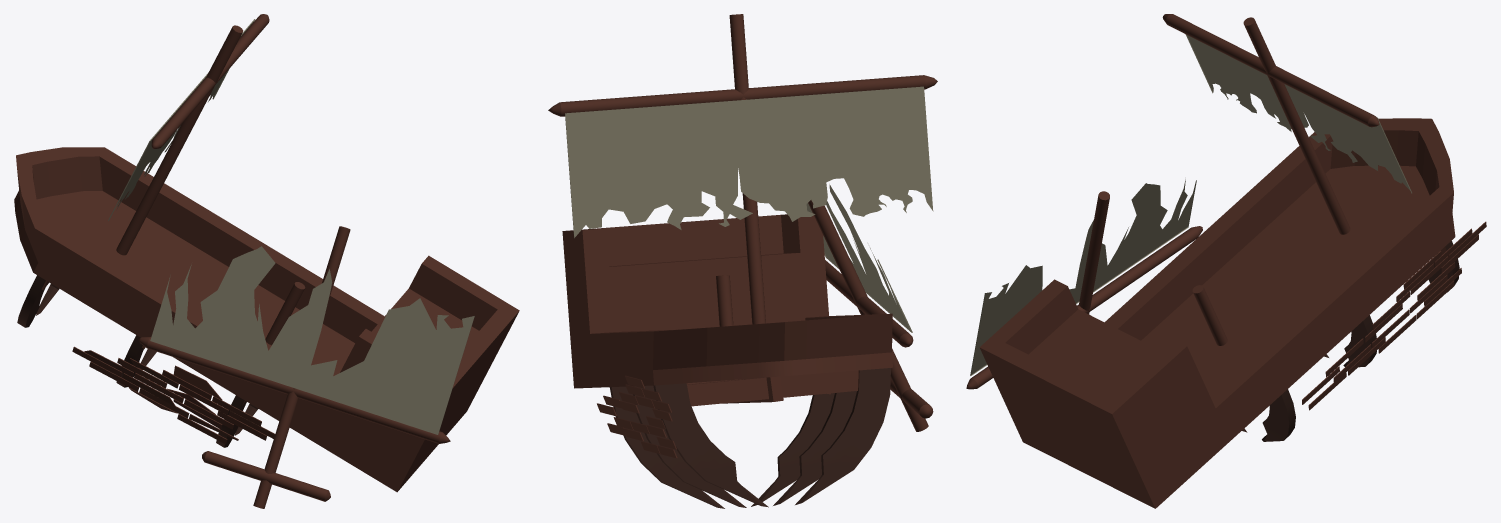
File: Pirate_Ship.FBX
3 views of the same model, side by side, from view 1: azimuth 30°, elevation 25°; view 2: azimuth 150°, elevation 25°; view 3: azimuth 270°, elevation 25° (orthographic). The views are drawn at different scales.
Parts seen in each view (by area): view 1: Box003, Box016, Box069, Box015; view 2: Box003, Box015, Box069, Box016; view 3: Box003, Box016, Box015, Box069.
Part boxes in pixels (x1=…): Box003: x1=14, y1=14, x2=519, y2=508; Box016: x1=150, y1=246, x2=474, y2=434; Box069: x1=72, y1=346, x2=275, y2=444; Box015: x1=108, y1=19, x2=255, y2=220; Box003: x1=548, y1=14, x2=937, y2=508; Box015: x1=565, y1=86, x2=933, y2=238; Box069: x1=597, y1=375, x2=677, y2=458; Box016: x1=806, y1=184, x2=912, y2=332; Box003: x1=966, y1=14, x2=1459, y2=508; Box016: x1=970, y1=179, x2=1196, y2=375; Box015: x1=1185, y1=34, x2=1411, y2=193; Box069: x1=1302, y1=221, x2=1486, y2=410.
Size of the model in its own units: 396 by 409 by 460.
